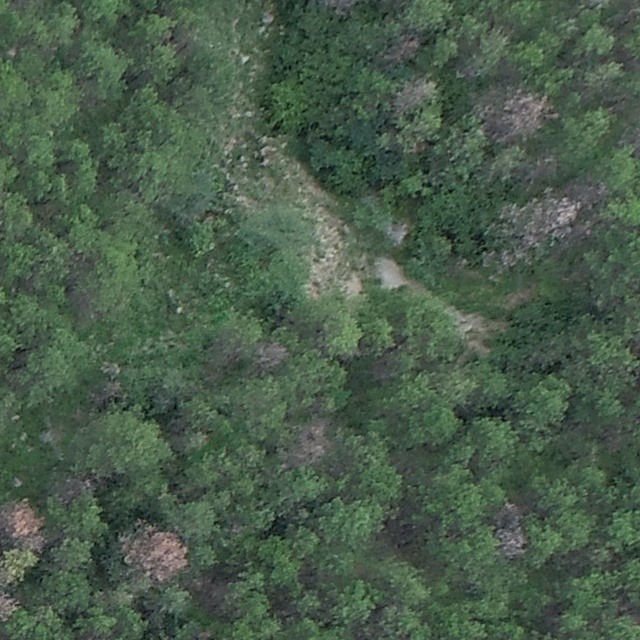unhealthy: (478, 196, 581, 265), (119, 520, 189, 584), (480, 88, 556, 144), (282, 418, 330, 469), (1, 498, 44, 542), (390, 75, 437, 112), (561, 173, 610, 206), (383, 33, 424, 65), (493, 525, 530, 559), (253, 339, 290, 372), (523, 152, 557, 184), (88, 378, 124, 406), (493, 498, 526, 525), (317, 0, 358, 18), (0, 589, 18, 622)
